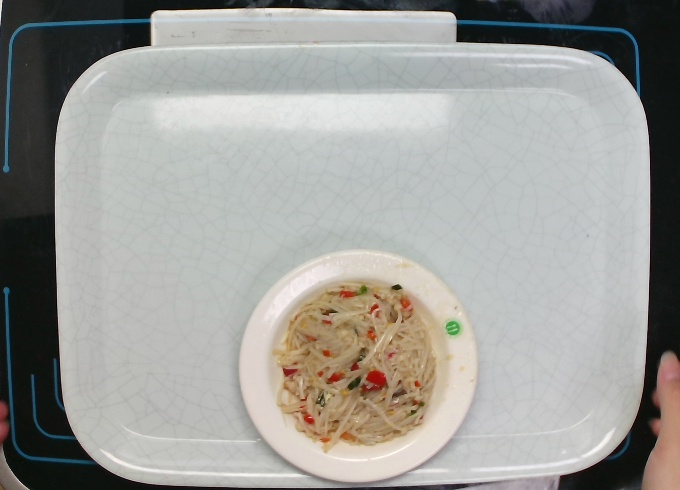WCQzf-Kuan_Bian_Yuan_Die: (228, 243, 483, 485)
